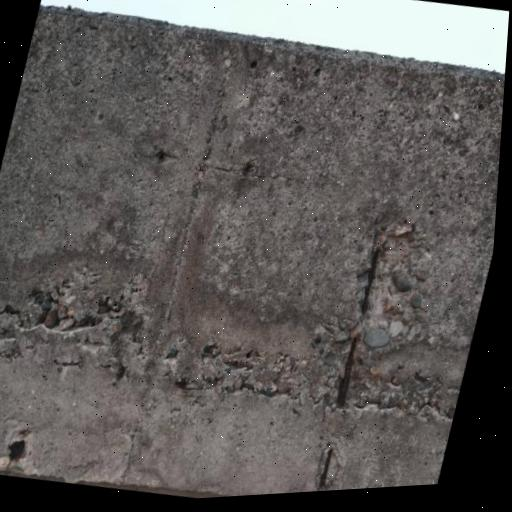exposed_rebar: (336, 336, 356, 406), (361, 250, 378, 314), (319, 448, 333, 487), (8, 439, 25, 460)
